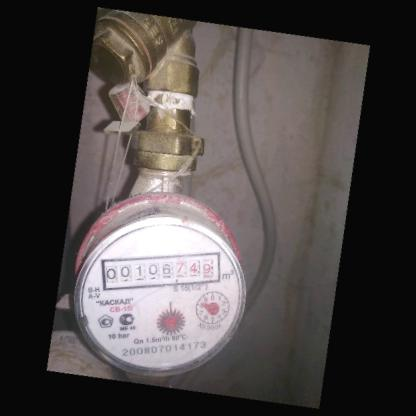digital_screen: (100, 254, 176, 290)
